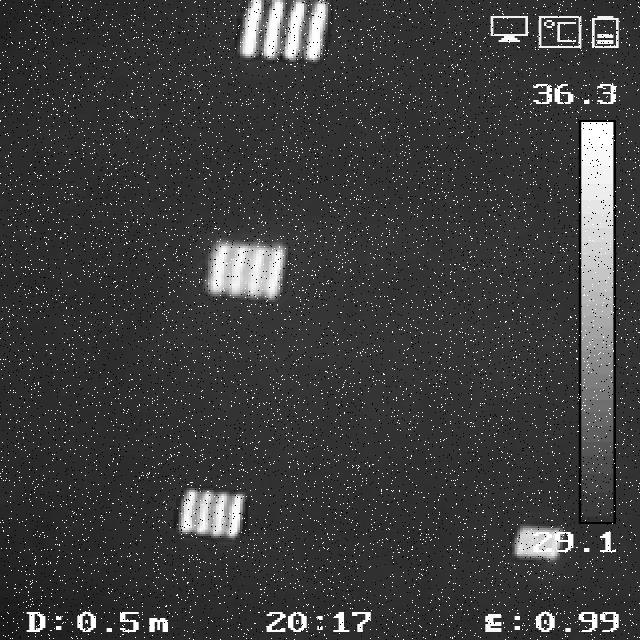Distinguishable 4-bar target: (245, 4, 335, 61), (180, 490, 252, 540)
Indistinguishable 4-bar target: (518, 529, 562, 562)
threshold 4-bar target: (215, 241, 285, 299)
